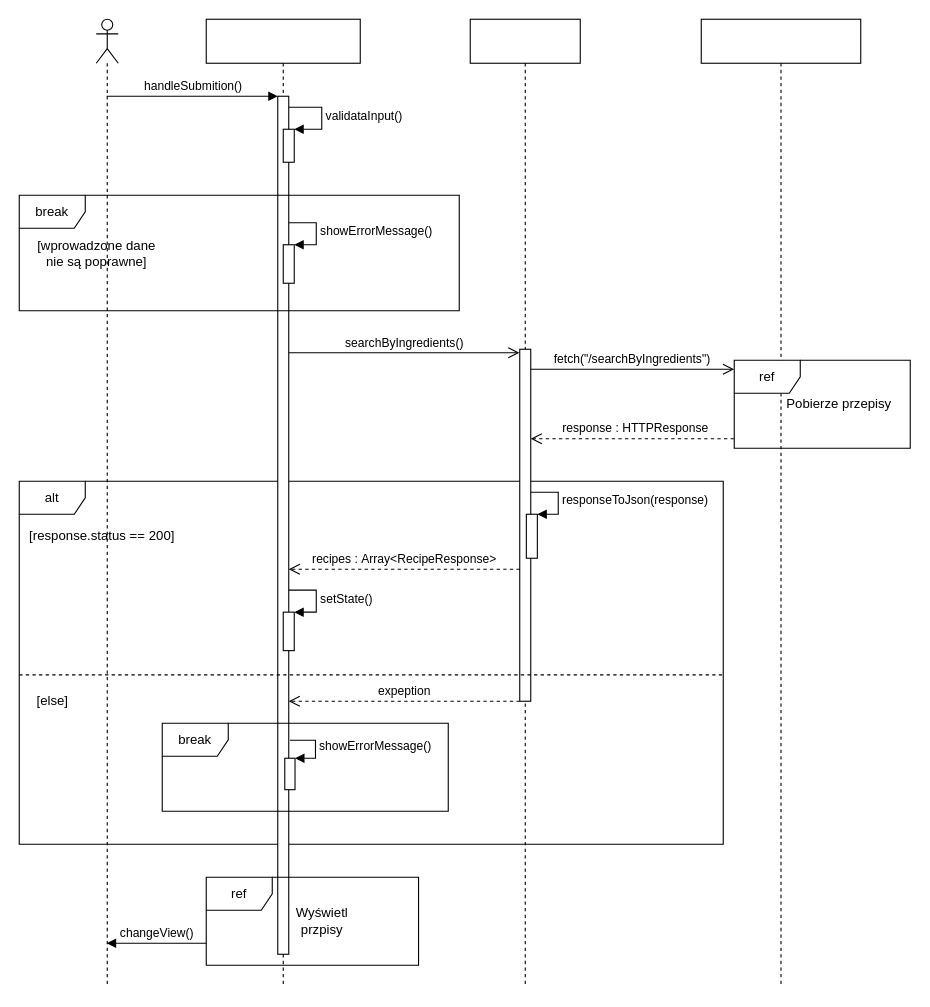
Image size: 930x1007. Some labels were removed from this diagram. Each missing label, with the box of its shape:
API: (700, 18, 861, 987)
apiClient : Client: (469, 18, 580, 987)
Home : HomeComponent: (205, 18, 360, 987)
